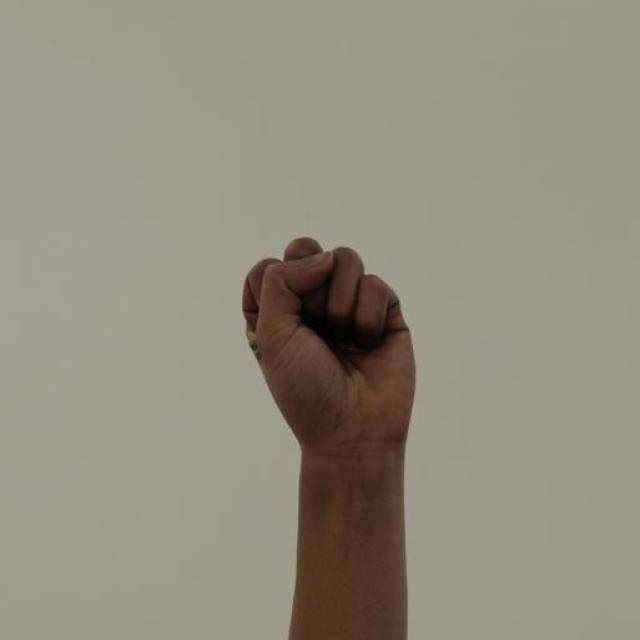S: (238, 232, 422, 460)
